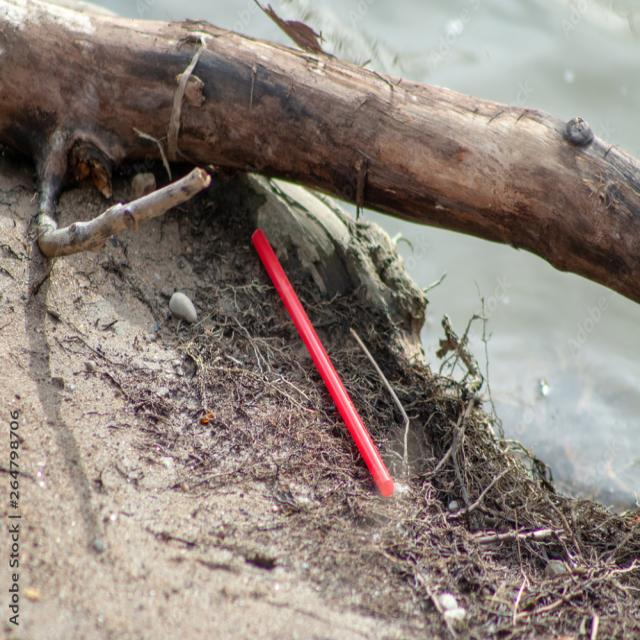plastic: (239, 203, 407, 510)
